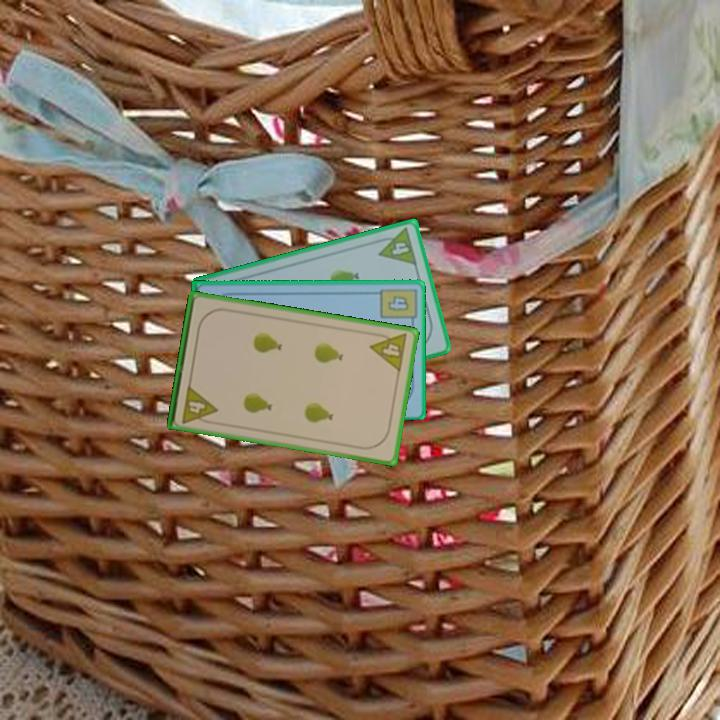4b: (376, 284, 418, 328)
4p: (372, 224, 420, 268), (367, 328, 410, 375), (178, 381, 220, 427)
